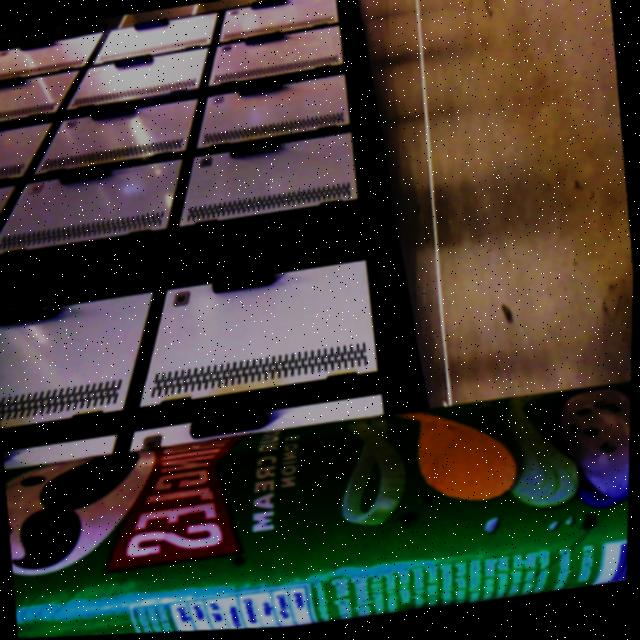greenpringles: (0, 360, 633, 640)
